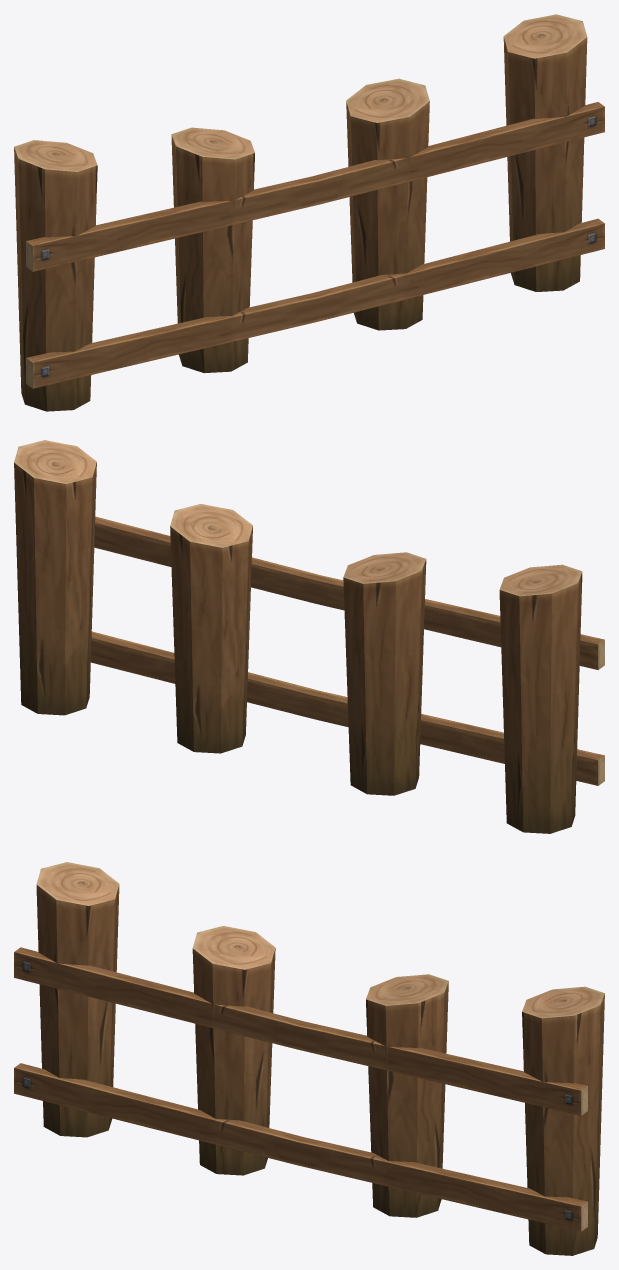
File: wooden_fence_19.fbx
3 views of the same model, one above another, from view 1: azimuth 30°, elevation 25°; view 2: azimuth 150°, elevation 25°; view 3: azimuth 330°, elevation 25° (orthographic).
Visible parts, largest first — view 1: wooden_fence_19:Mesh; view 2: wooden_fence_19:Mesh; view 3: wooden_fence_19:Mesh.
Part boxes in pixels (box(x1,y1,x2,y2)): wooden_fence_19:Mesh: box(14, 14, 604, 411); wooden_fence_19:Mesh: box(14, 440, 604, 833); wooden_fence_19:Mesh: box(14, 862, 604, 1255).
Bounding box in the file's own units: 6.98 × 2.88 × 0.9226.
